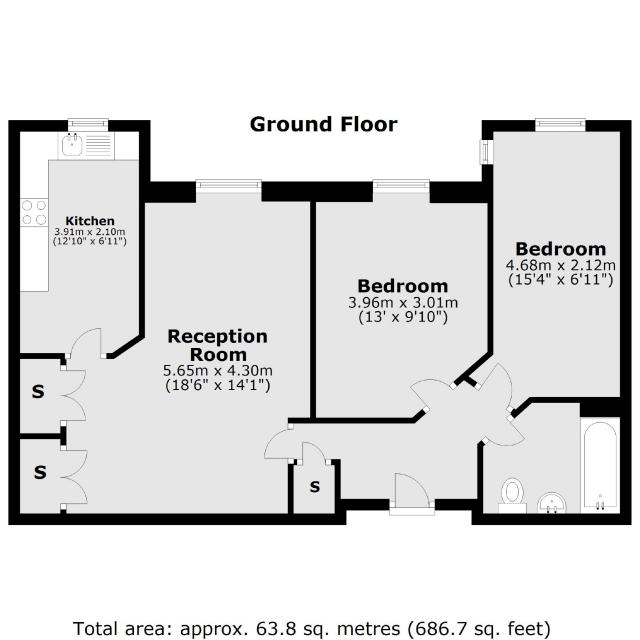DOOR: (473, 362, 515, 413), (389, 473, 436, 516), (409, 379, 458, 414), (480, 414, 526, 447), (64, 327, 107, 359), (264, 423, 294, 464)
ROOM: (8, 179, 316, 526), (459, 117, 632, 419), (310, 179, 494, 424), (8, 118, 151, 359)
WINDOW: (195, 179, 263, 194), (372, 179, 430, 194), (534, 118, 586, 132), (67, 118, 109, 132), (479, 139, 494, 165)
